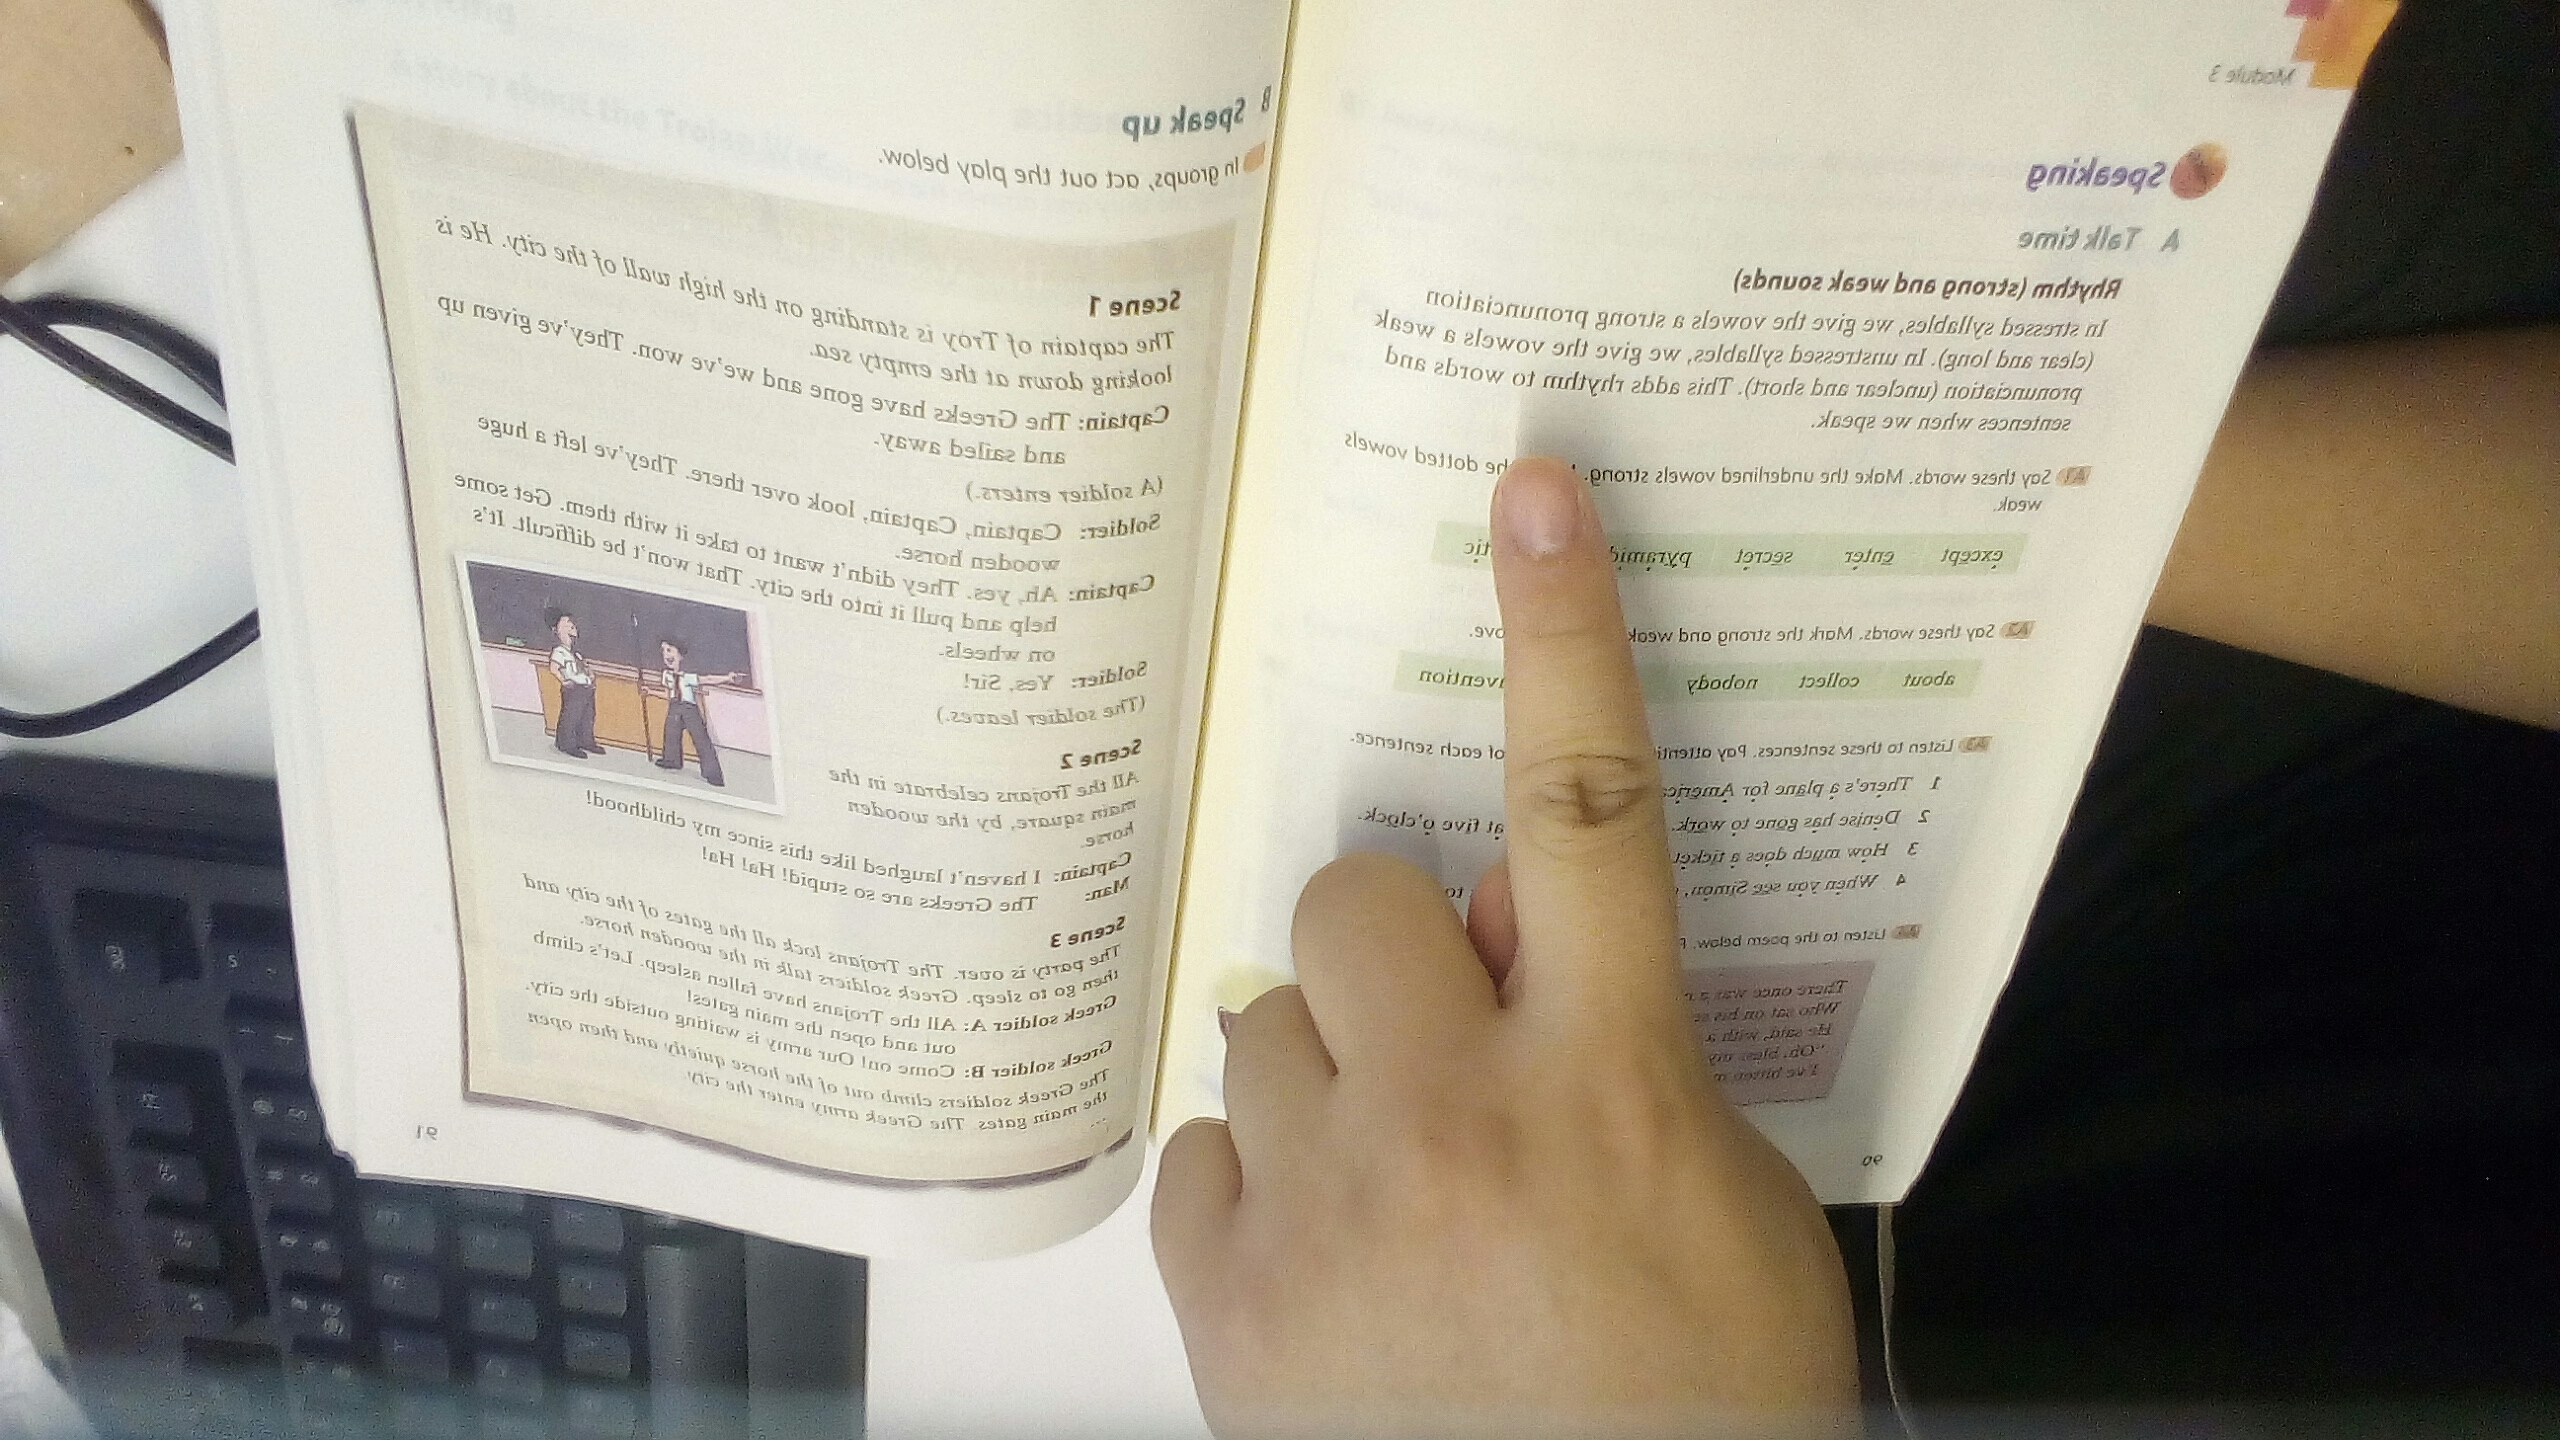1: (11, 11, 100, 100)
2: (49, 49, 100, 100)
fingernail: (1484, 452, 1596, 575)
hand: (1132, 445, 1874, 1433)
